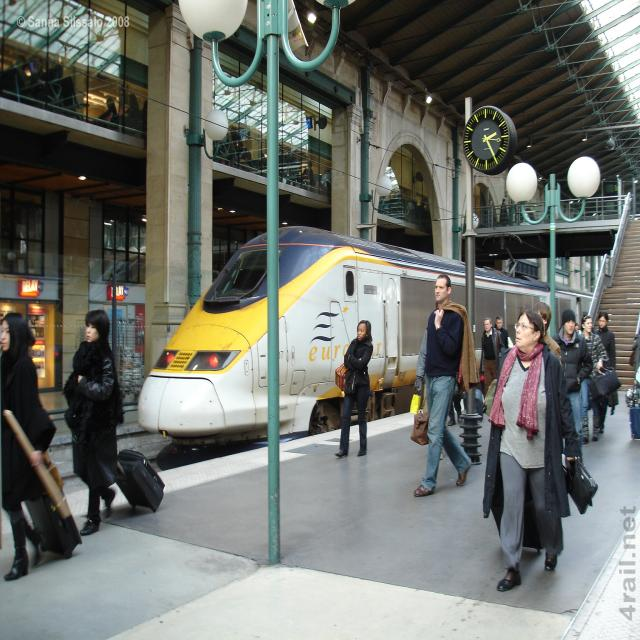body: (478, 306, 600, 594), (0, 308, 58, 584), (409, 271, 478, 498), (62, 308, 126, 536), (1, 49, 139, 128), (220, 121, 330, 191), (552, 308, 594, 461), (331, 318, 375, 460), (577, 314, 622, 446), (413, 299, 448, 462), (592, 310, 617, 435), (479, 317, 505, 400), (624, 317, 640, 443), (532, 301, 562, 366), (445, 379, 464, 427), (408, 195, 434, 227), (493, 315, 509, 349), (486, 198, 496, 231), (499, 198, 509, 226), (574, 322, 584, 336)
